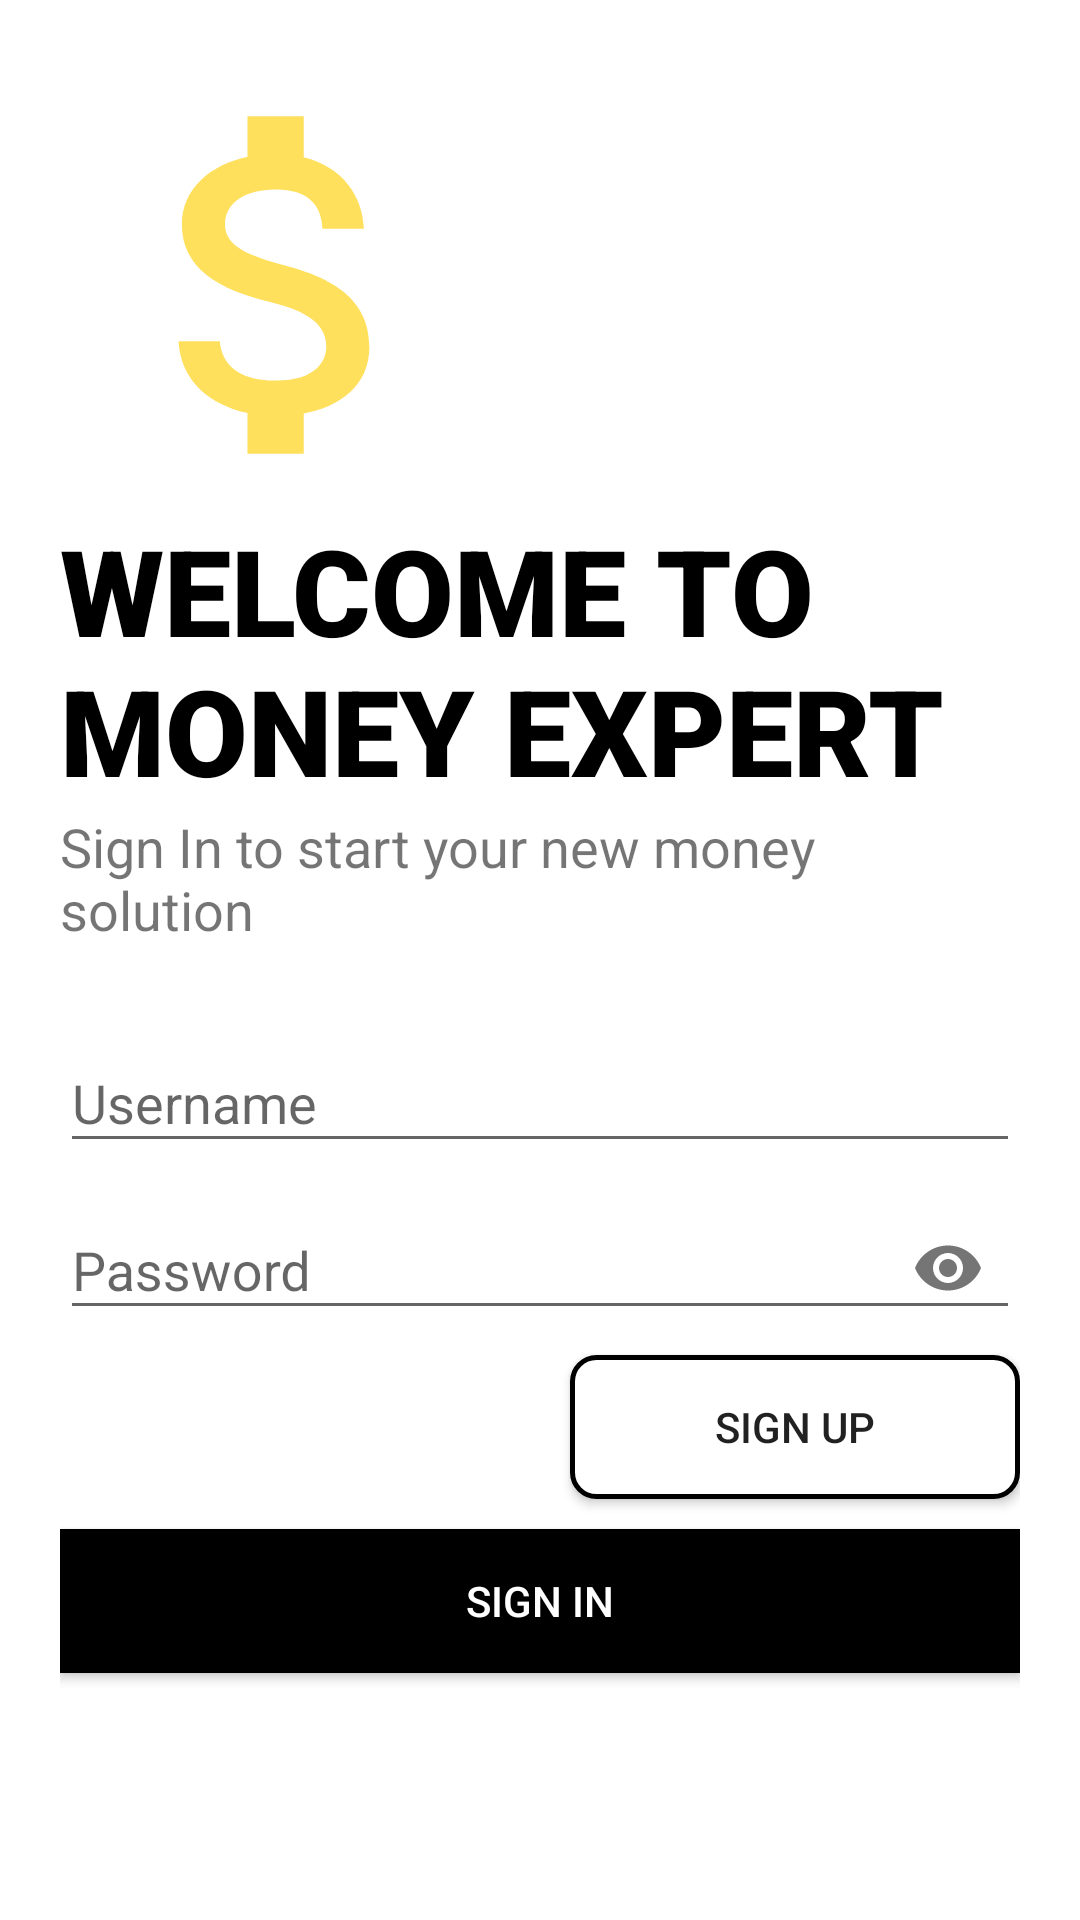

Icons on this 1080 x 1920 Android screen, each with its box as (x1, y1, x2, y2):
MONEYLOGO: (178, 116, 370, 454)
